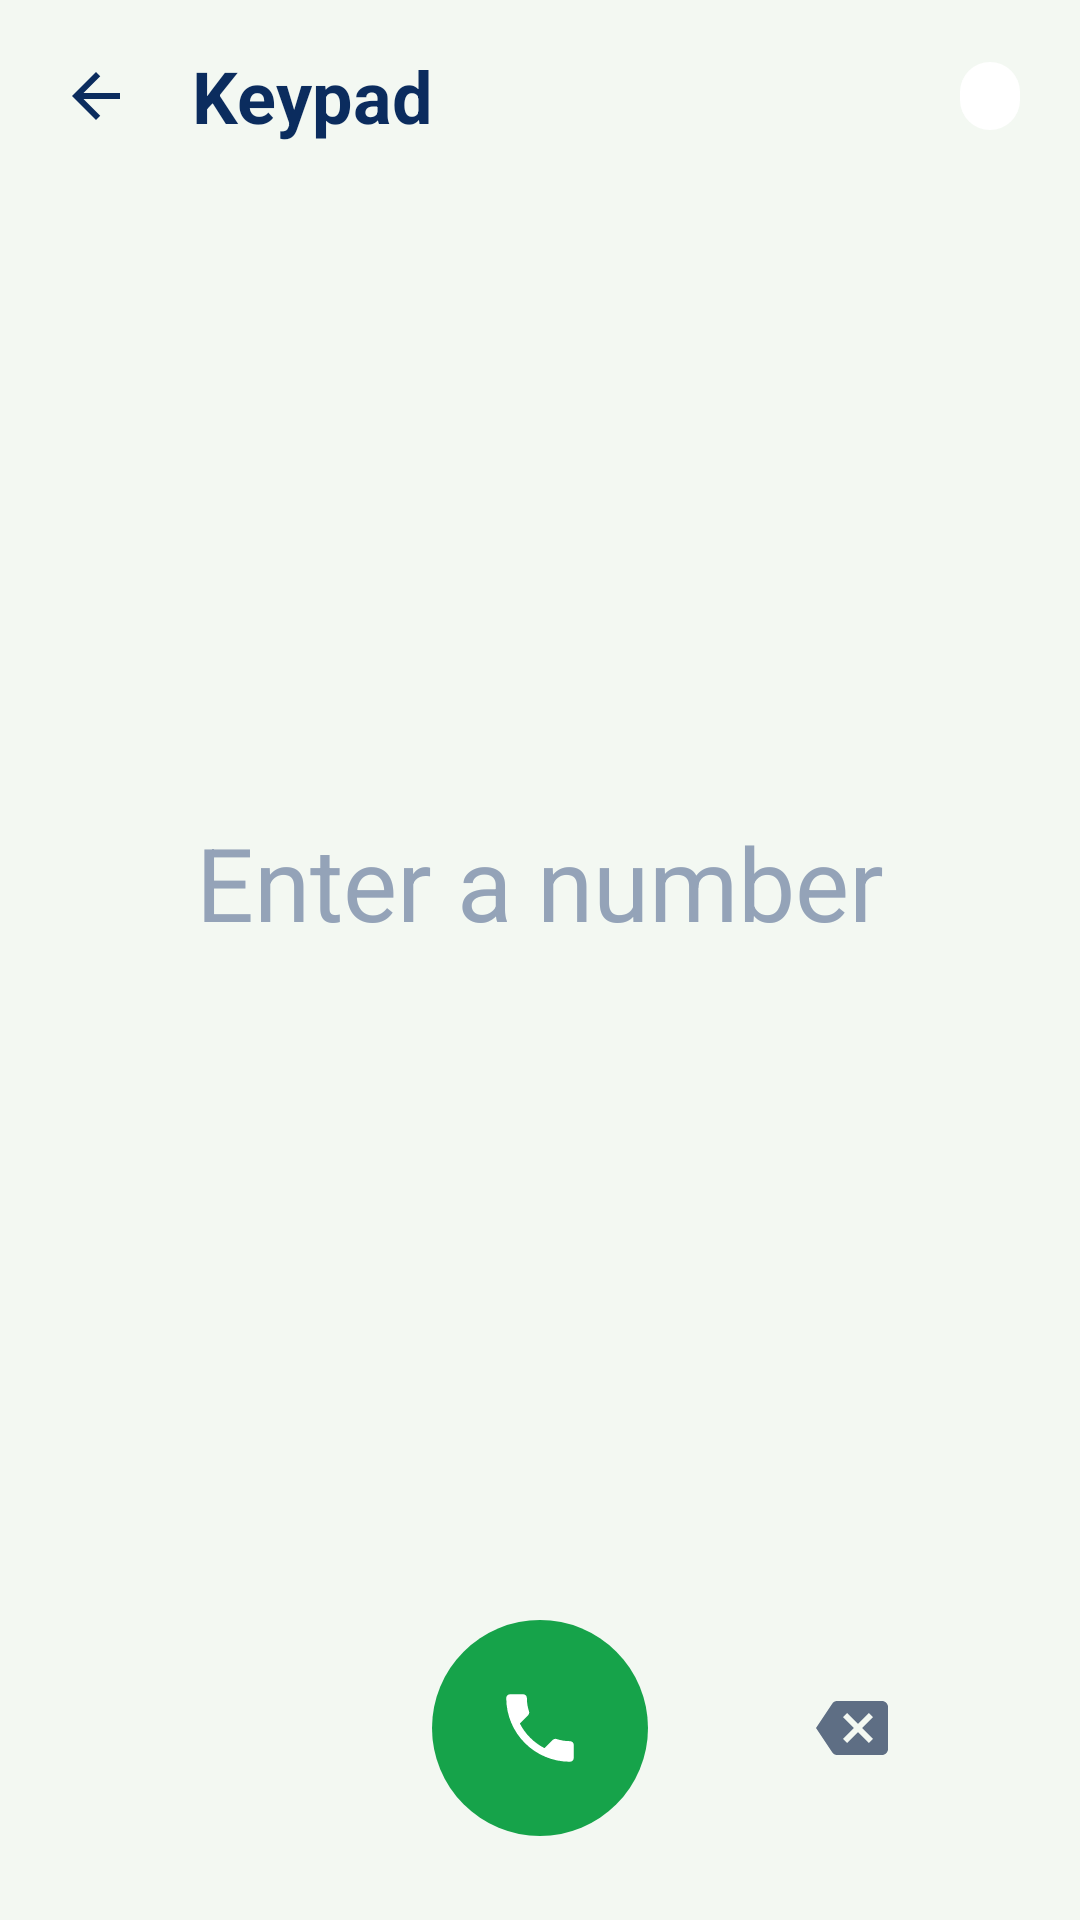

Where icons sit on this 1080 × 1920 app screen, as box(x1, y1, x2, y2):
Back: box(72, 72, 120, 120)
Call: box(432, 1620, 648, 1836)
Delete: box(816, 1701, 888, 1755)
